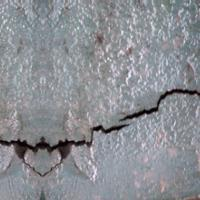crack: (1, 77, 199, 182)
